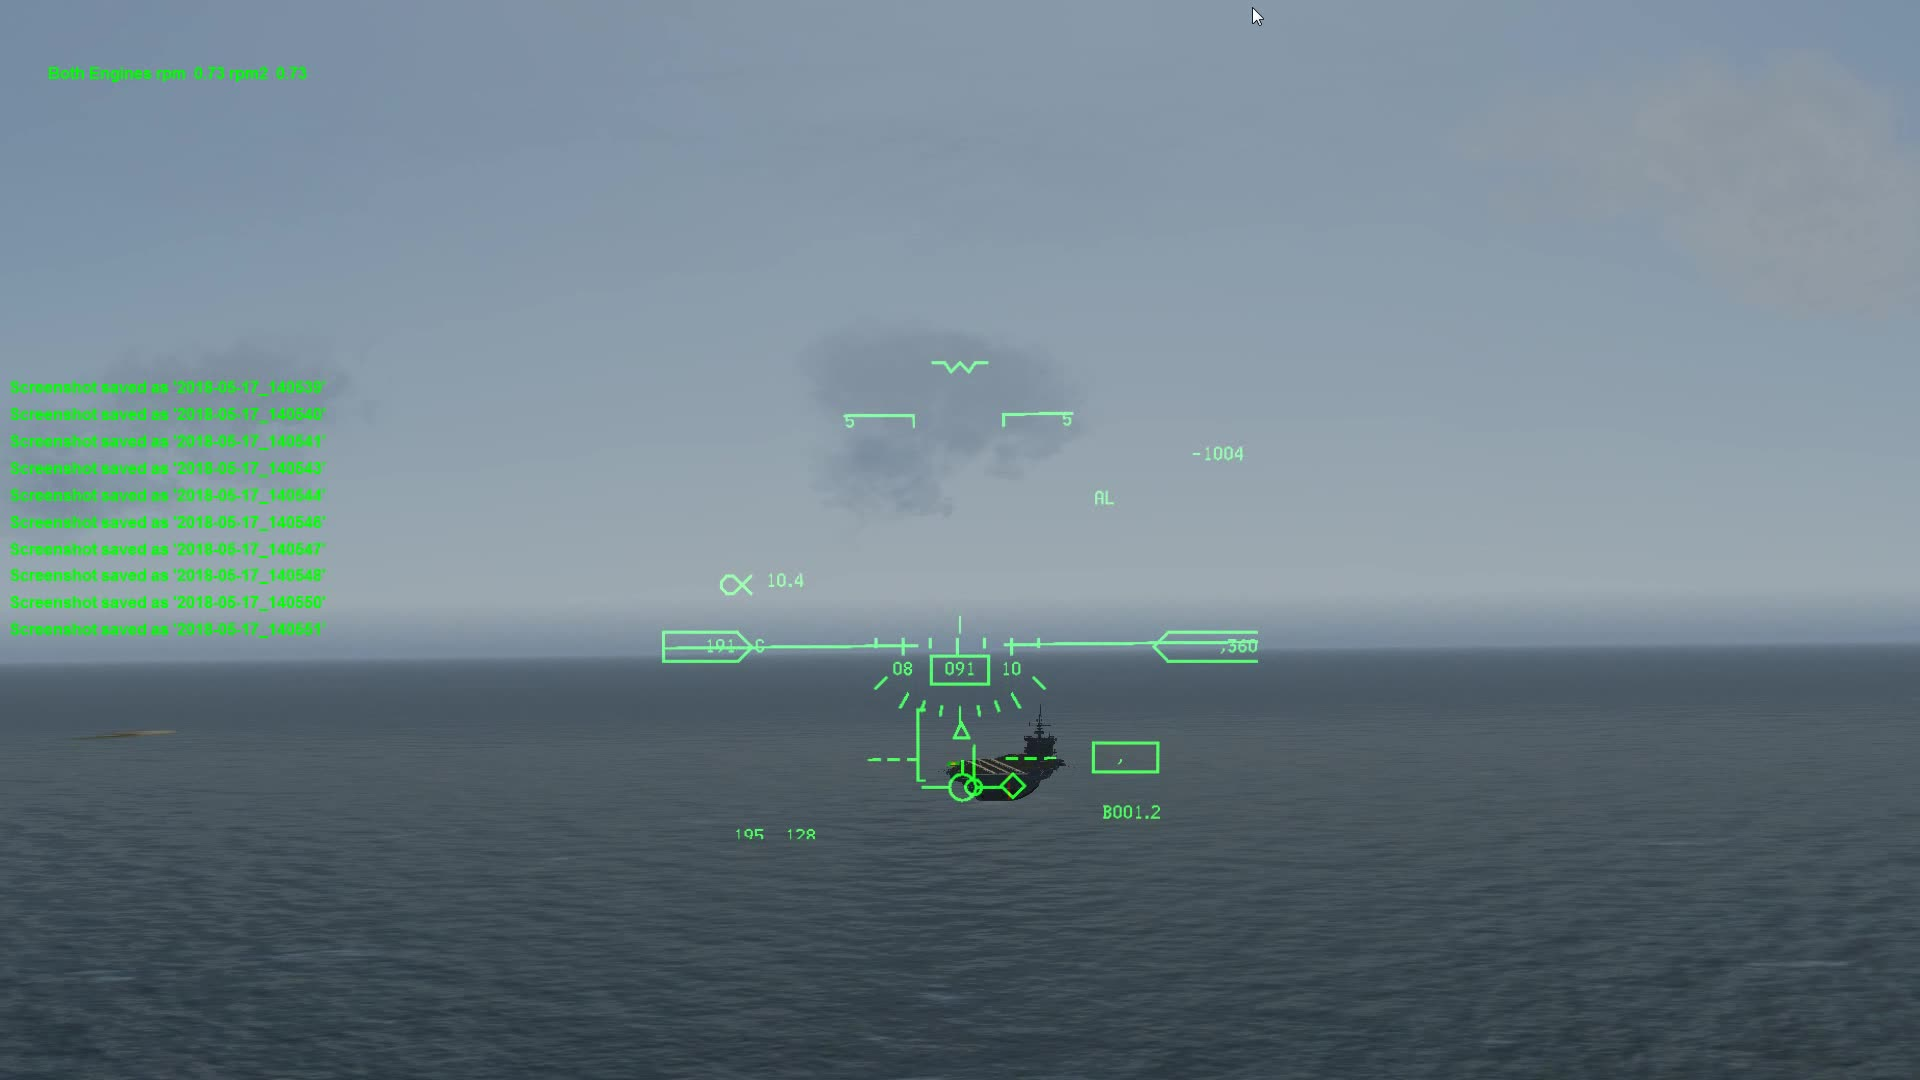speed vector: (930, 758, 1004, 811)
